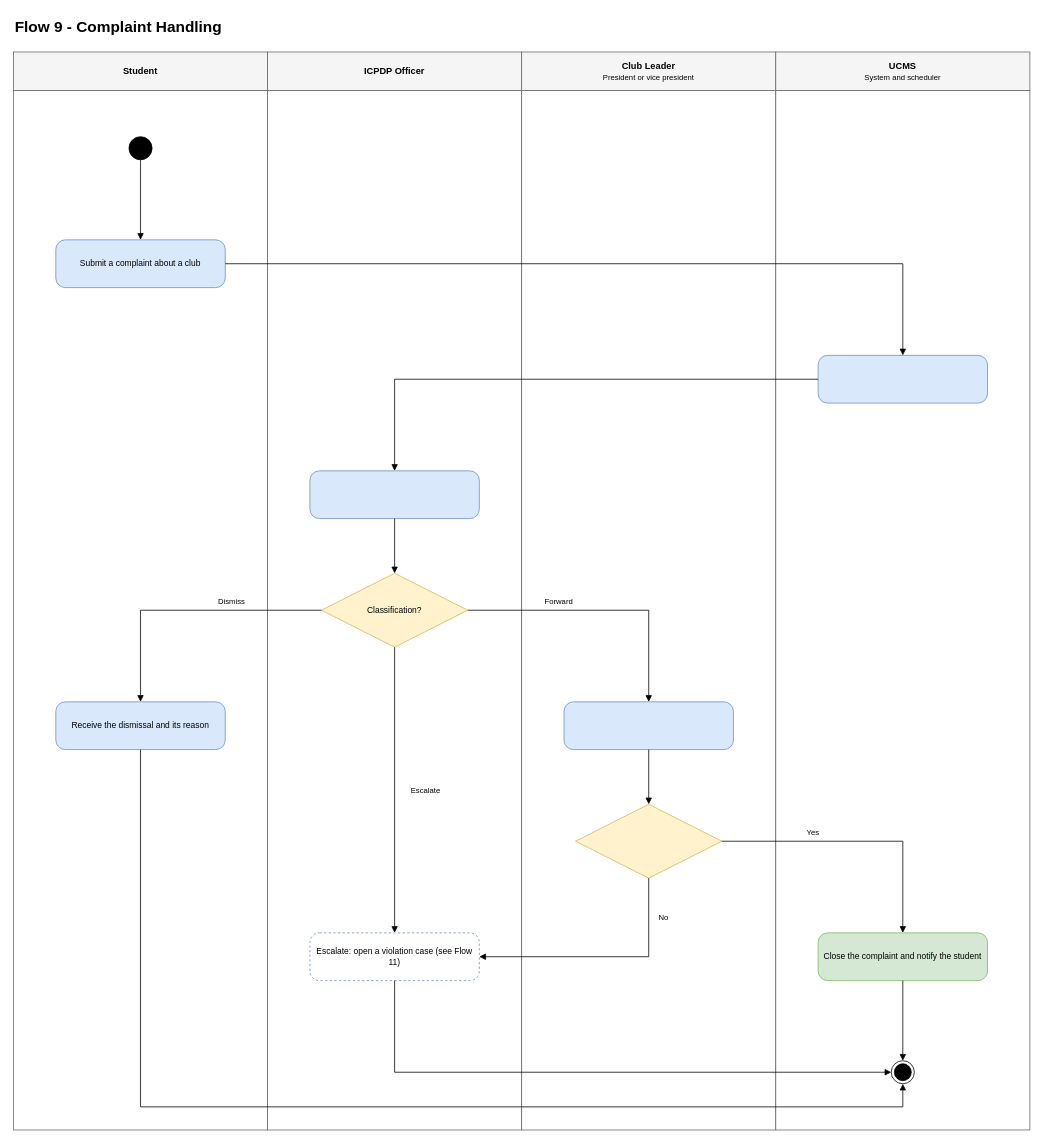
Image size: 1043x1143. Some labels were removed from this diagram. Each missing label, with the centre of its shape:
"Respond to the complaint before the due date" goes at point 648,725.
"Response accepted by ICPDP?" goes at point 648,840.
"Review and classify the complaint" goes at point 394,494.
"Save as Submitted and notify ICPDP" goes at point 902,379.
